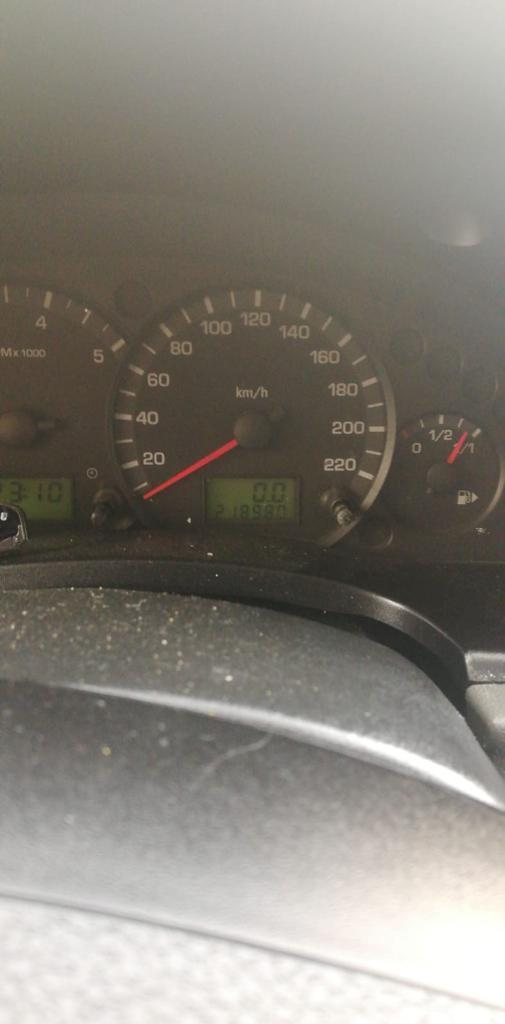,: (266, 498, 270, 503)
0: (252, 481, 266, 503), (271, 481, 285, 503), (275, 504, 287, 521)
1: (231, 504, 238, 519)
2: (214, 503, 225, 520)
8: (264, 503, 274, 520), (239, 504, 248, 520)
9: (250, 504, 262, 520)
odometer: (201, 472, 302, 529)
